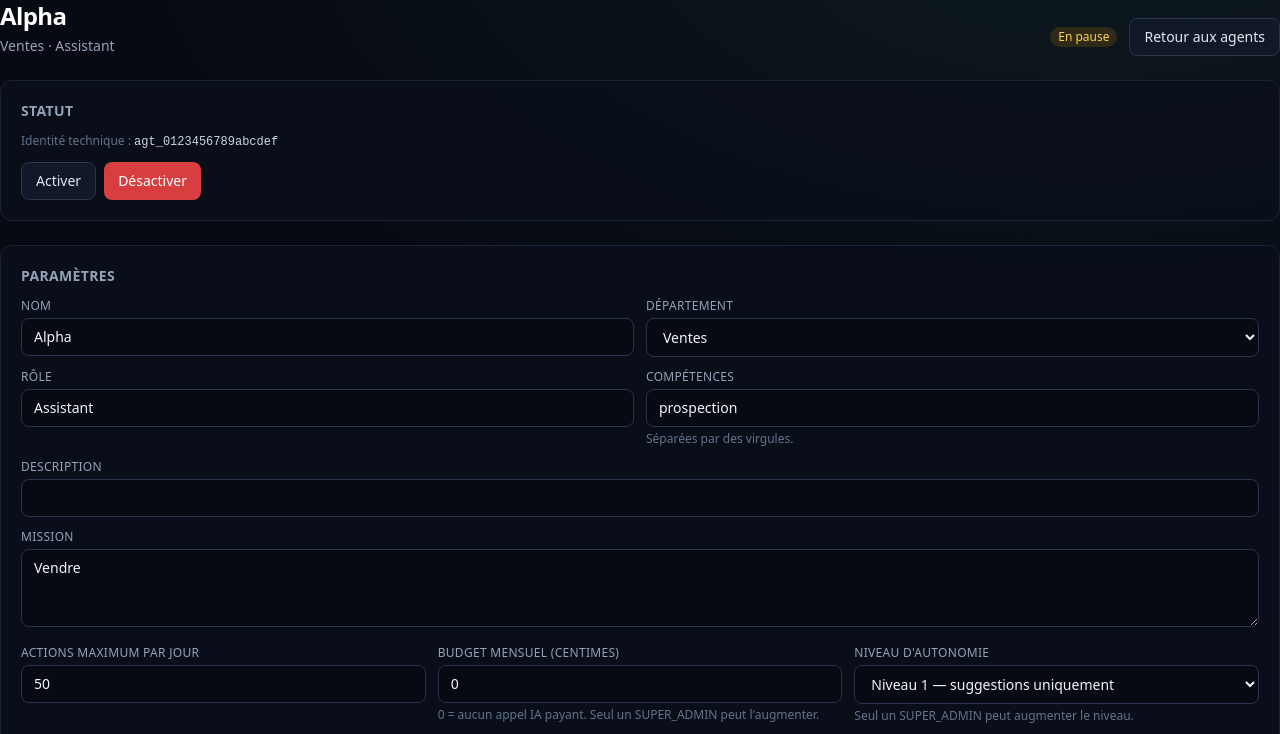
Test: AgentDetailView › affiche l'erreur de transition renvoyée par le serveur
The width and height of the screenshot is (1280, 734).
Check: the heading "Alpha" is shown, box [0,0,66,32]
What coordinates should you click on to do the following:
click the button "Activer"
I would click on:
 (59, 181)
Its box is [21,162,96,200].
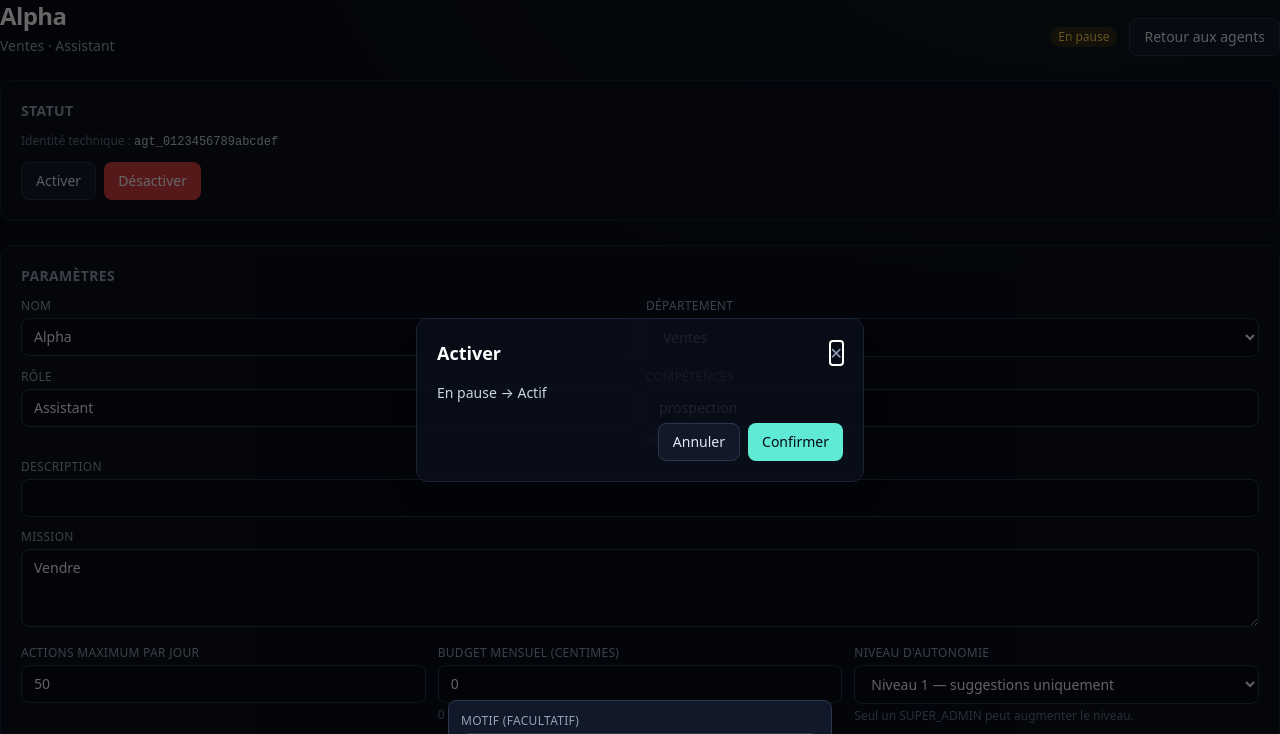
What coordinates should you click on to do the following:
click the button "Confirmer"
I would click on:
 (796, 442)
Its box is [748,423,843,461].
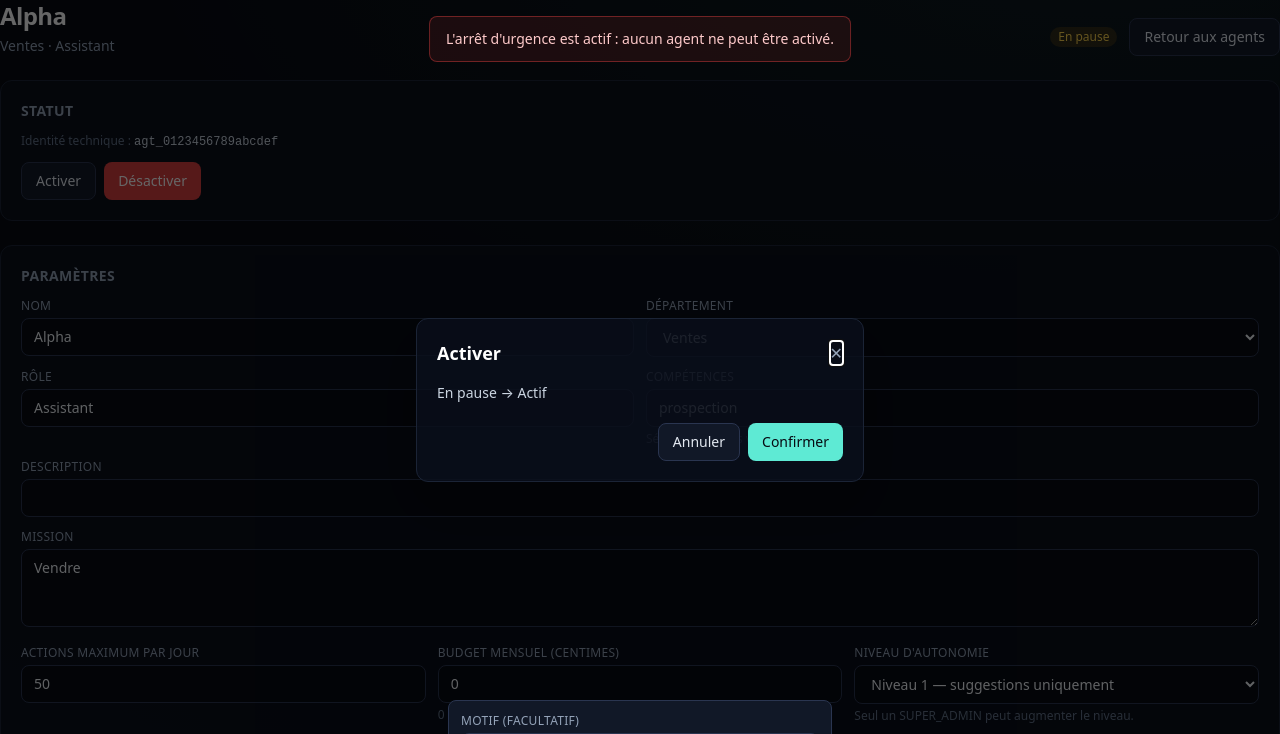
Check: the text "L'arrêt d'urgence est actif" is shown, box [446,29,834,48]
